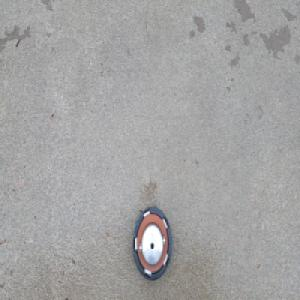FuelCap: (131, 204, 173, 281)
